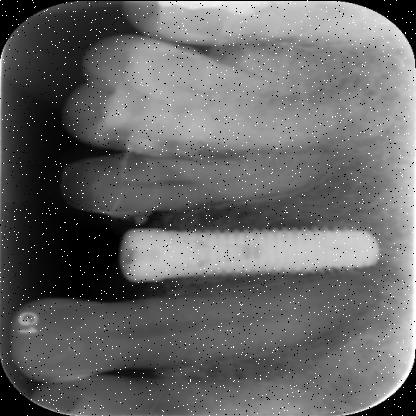Bego: (158, 224, 387, 285)
